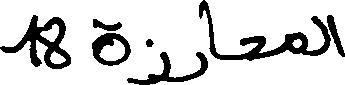X: (94, 14, 128, 84), (0, 10, 37, 71), (39, 12, 70, 73), (183, 0, 205, 84), (140, 34, 168, 84), (314, 10, 329, 60), (242, 31, 264, 65), (285, 27, 306, 59), (331, 10, 344, 61), (207, 0, 214, 72)
